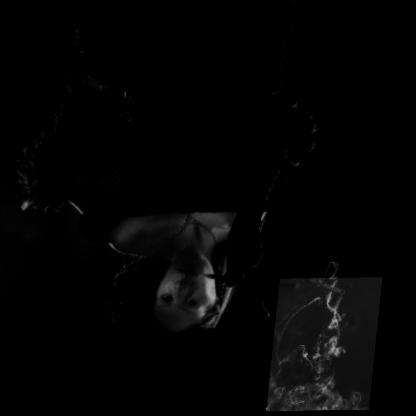smoke: (275, 278, 389, 412)
